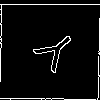Y: (24, 24, 81, 81)
